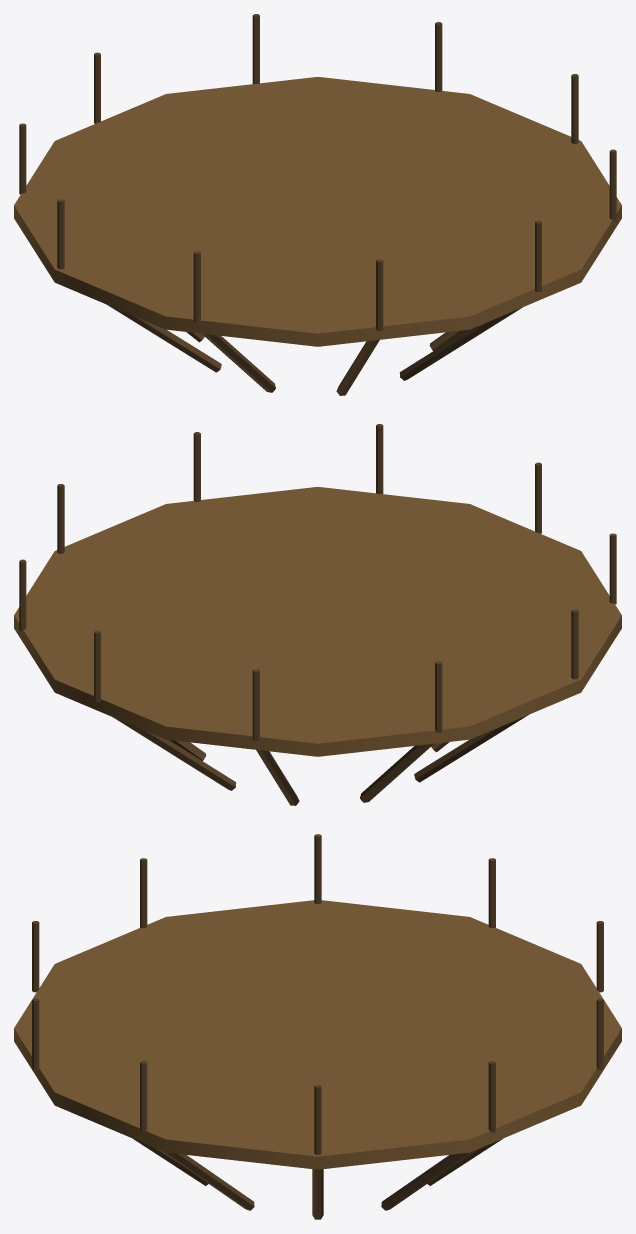
File: treehouse_platform.glb
3 views of the same model, one above another, from view 1: azimuth 30°, elevation 25°; view 2: azimuth 150°, elevation 25°; view 3: azimuth 270°, elevation 25° (orthographic).
Parts seen in each view (by area): view 1: treehouse_platform; view 2: treehouse_platform; view 3: treehouse_platform.
Part boxes in pixels (left/top/right/bottom): treehouse_platform: left=14, top=14, right=621, bottom=395; treehouse_platform: left=14, top=424, right=621, bottom=805; treehouse_platform: left=14, top=834, right=621, bottom=1219.
Size of the model in its own units: 8.4 by 3.18 by 8.4.
